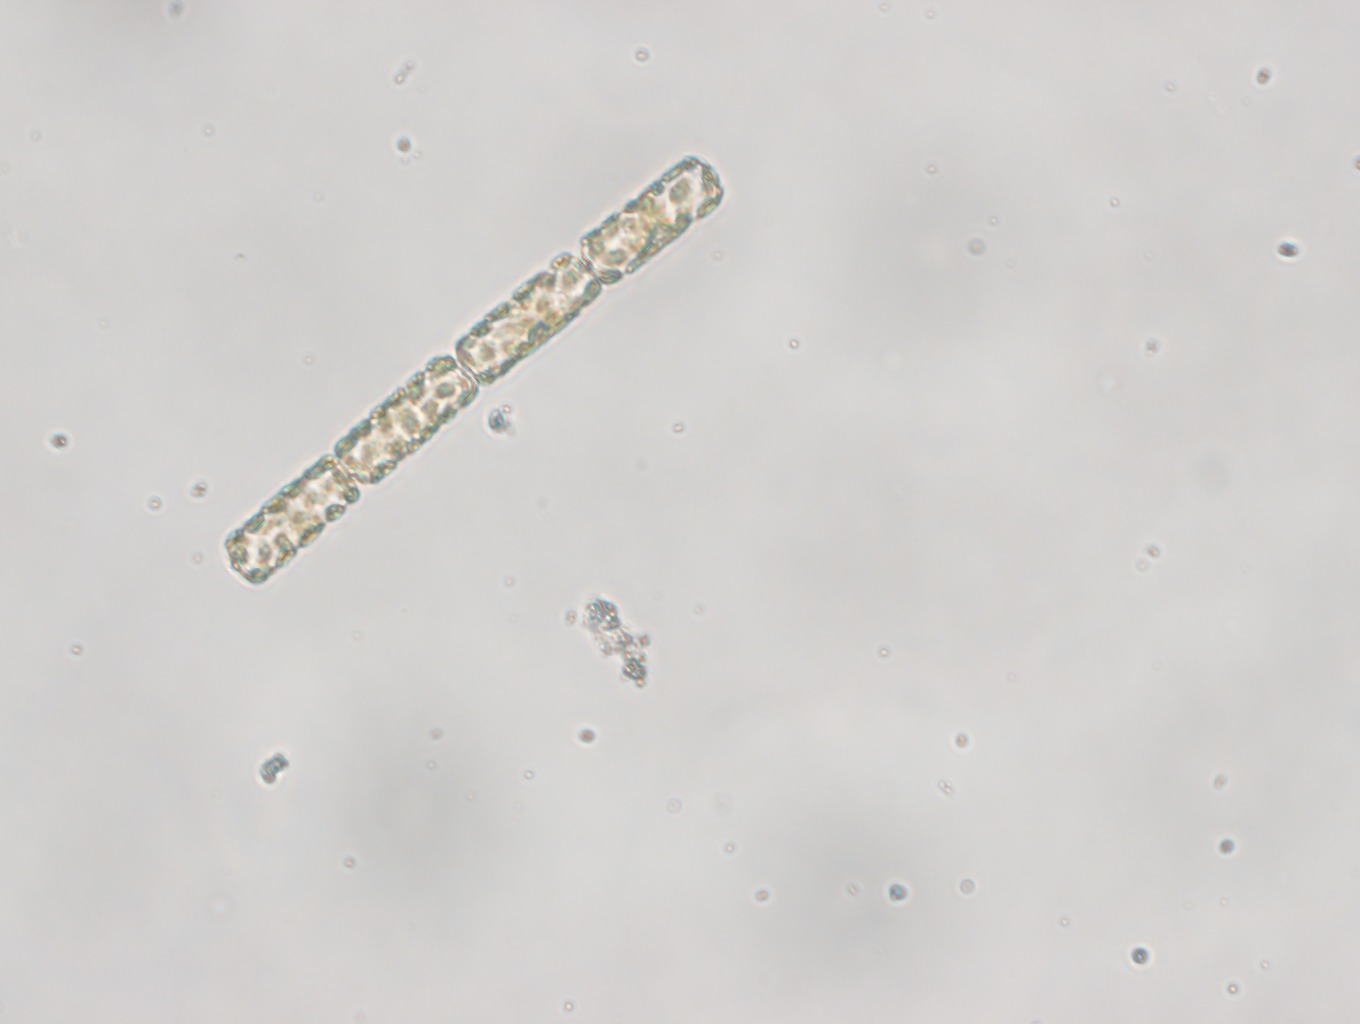guinardia flaccida: (223, 152, 729, 589)
